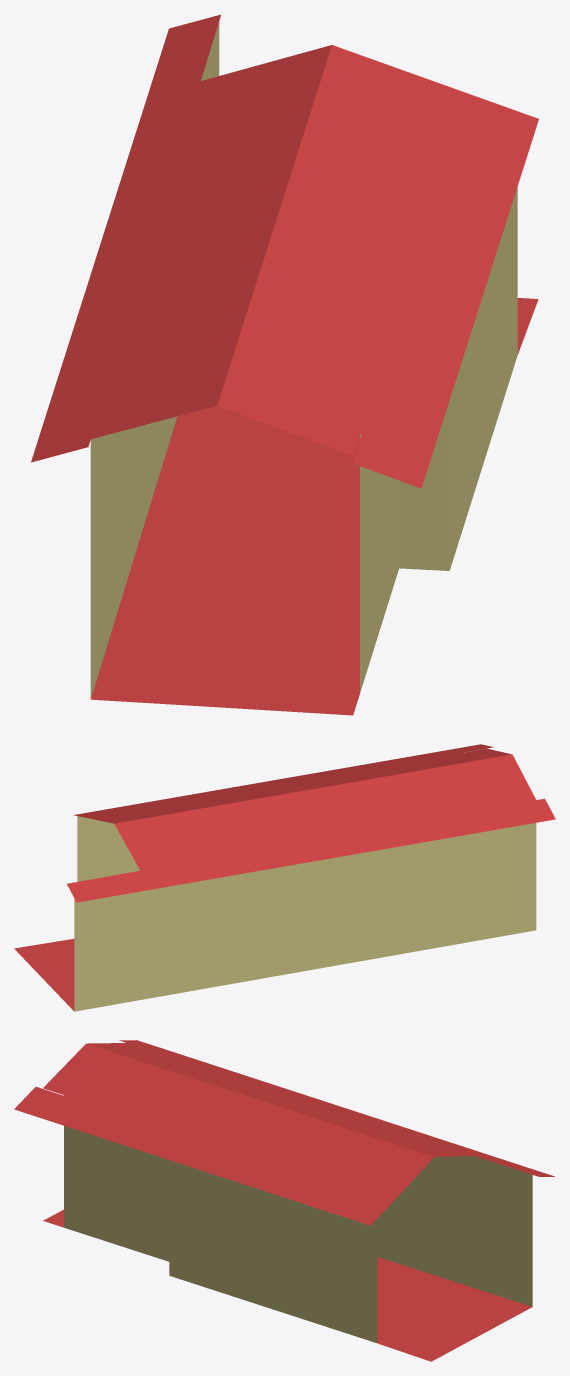
The picture shows the model from 3 angles, top to bottom: view 1: azimuth 30°, elevation 25°; view 2: azimuth 150°, elevation 25°; view 3: azimuth 270°, elevation 25°; orthographic projection. The views are drawn at different scales.
Size of the model in its own units: 24.56 by 28.36 by 8.89.
